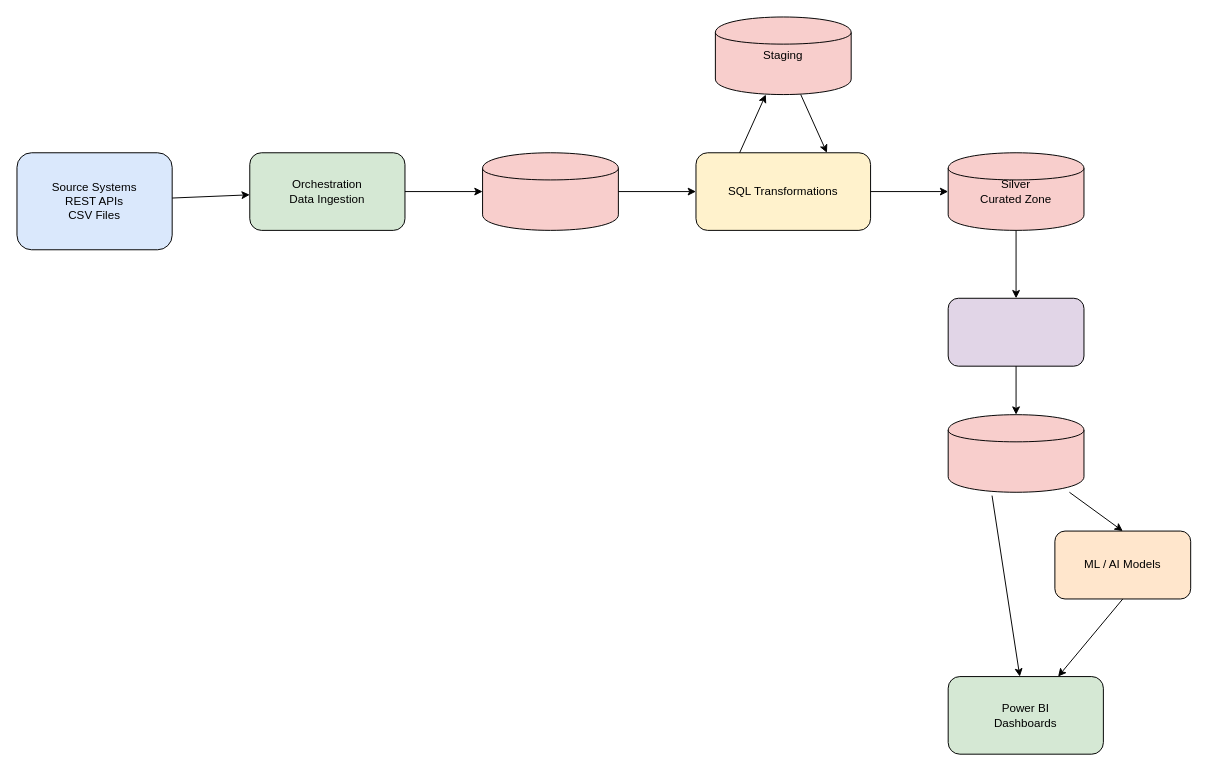
Image size: 1208x771. Some labels were removed from this diagram. The centre of each missing label's shape, as x and y in pixels:
"Bronze Raw Zone" belongs at [550,191].
"Databricks" belongs at [1015,331].
"Gold" belongs at [1015,453].
